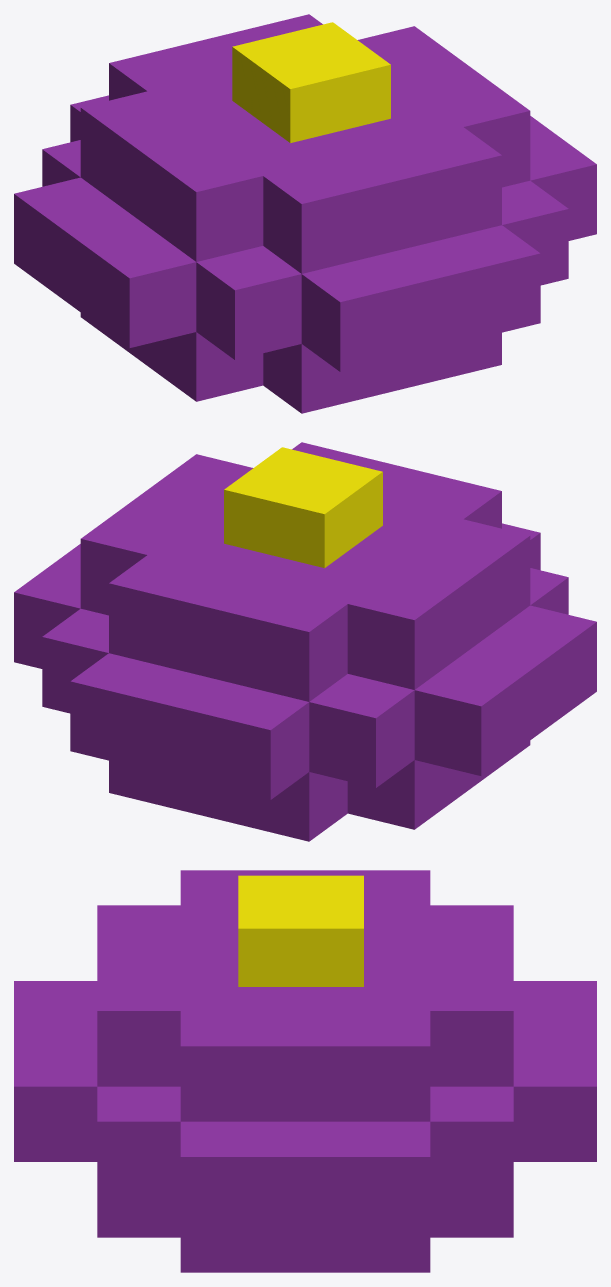
Rendered from fleur3.fbx.
3 renders of one model, top to bottom at view 1: azimuth 30°, elevation 25°; view 2: azimuth 150°, elevation 25°; view 3: azimuth 270°, elevation 25°, orthographic. The views are drawn at different scales.
Visible parts, largest first — view 1: Sphere.016; view 2: Sphere.016; view 3: Sphere.016.
Boxes of the visible parts, x1,y1,x2,y2 form: Sphere.016: [14, 14, 596, 413]; Sphere.016: [14, 442, 596, 841]; Sphere.016: [14, 870, 596, 1272].
Size of the model in its own units: 79.74 by 42.97 by 79.74.
